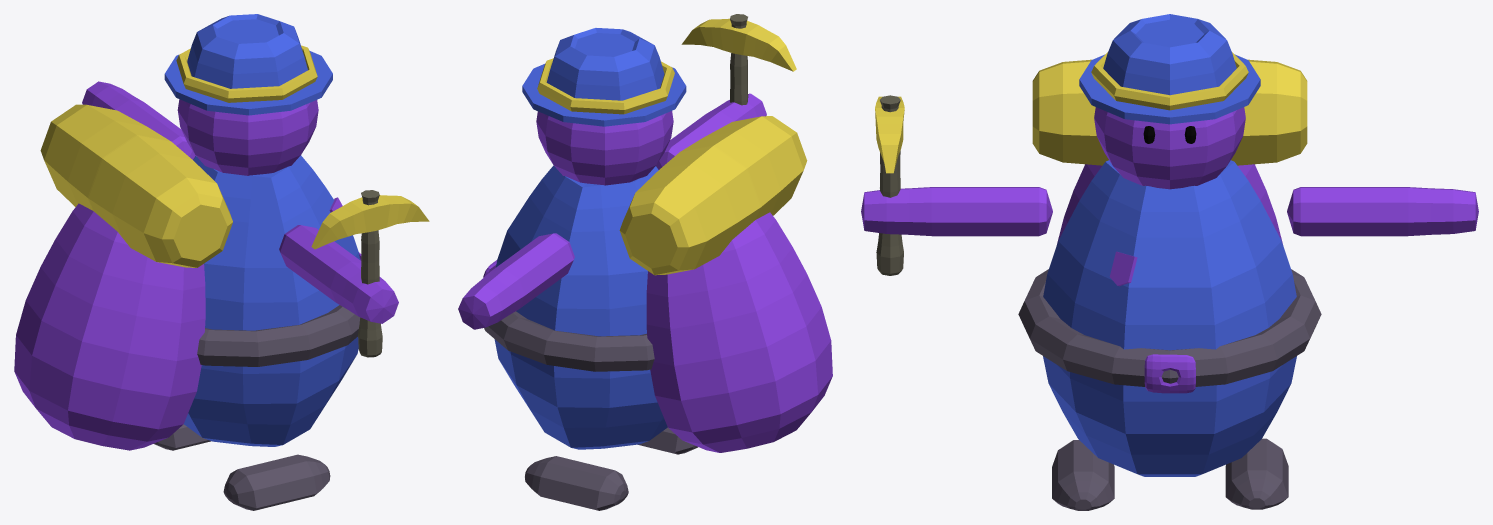
The model's file is Character.fbx.
3 renders of one model, left to right at view 1: azimuth 30°, elevation 25°; view 2: azimuth 150°, elevation 25°; view 3: azimuth 270°, elevation 25°, orthographic. The views are drawn at different scales.
Visible parts, largest first — view 1: Backback, Body, Roller, Head, Cup, Belt, R_Hand, Foot.001, Pickaxe Head, Wing, Ribbon, L_Hand (+2 smaller); view 2: Backback, Body, Roller, Head, Cup, Belt, L_Hand, Foot, Pickaxe Head, Wing, Ribbon, R_Hand (+2 smaller); view 3: Body, Belt, Roller, L_Hand, R_Hand, Head, Cup, Wing, Foot, Foot.001, Ribbon, Handle (+4 smaller).
Boxes of the visible parts, bbox=[...] form: Backback: bbox=[14, 203, 205, 450]; Body: bbox=[184, 155, 359, 446]; Roller: bbox=[40, 104, 232, 267]; Head: bbox=[177, 99, 318, 175]; Cup: bbox=[187, 14, 307, 88]; Belt: bbox=[197, 305, 360, 366]; R_Hand: bbox=[279, 225, 398, 323]; Foot.001: bbox=[223, 454, 330, 510]; Pickaxe Head: bbox=[311, 195, 429, 249]; Wing: bbox=[164, 50, 332, 115]; Ribbon: bbox=[176, 45, 317, 102]; L_Hand: bbox=[82, 81, 195, 159]; Backback: bbox=[646, 212, 832, 452]; Body: bbox=[494, 165, 667, 449]; Roller: bbox=[619, 116, 807, 275]; Head: bbox=[536, 111, 673, 185]; Cup: bbox=[546, 28, 664, 100]; Belt: bbox=[484, 311, 654, 371]; L_Hand: bbox=[458, 233, 574, 329]; Foot: bbox=[525, 456, 628, 510]; Pickaxe Head: bbox=[681, 18, 796, 71]; Wing: bbox=[522, 64, 686, 126]; Ribbon: bbox=[537, 58, 674, 114]; R_Hand: bbox=[656, 93, 766, 169]; Body: bbox=[1043, 160, 1296, 476]; Belt: bbox=[1018, 269, 1321, 386]; Roller: bbox=[1032, 59, 1307, 165]; L_Hand: bbox=[1287, 187, 1478, 236]; R_Hand: bbox=[861, 187, 1052, 236]; Head: bbox=[1094, 107, 1245, 189]; Cup: bbox=[1103, 14, 1236, 95]; Wing: bbox=[1079, 54, 1260, 124]; Foot: bbox=[1225, 438, 1288, 509]; Foot.001: bbox=[1052, 440, 1114, 510]; Ribbon: bbox=[1091, 52, 1248, 110]; Handle: bbox=[876, 95, 903, 275].
Bounding box in the file's own units: 238 × 297 × 355.
